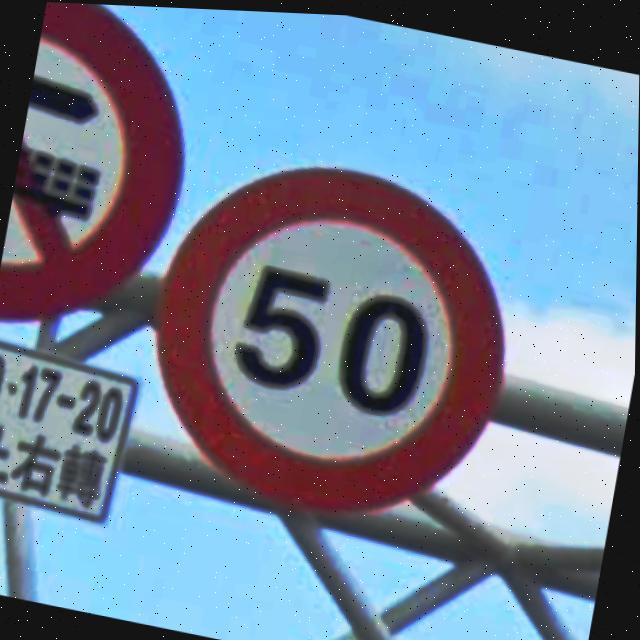max50: (126, 129, 537, 545)
